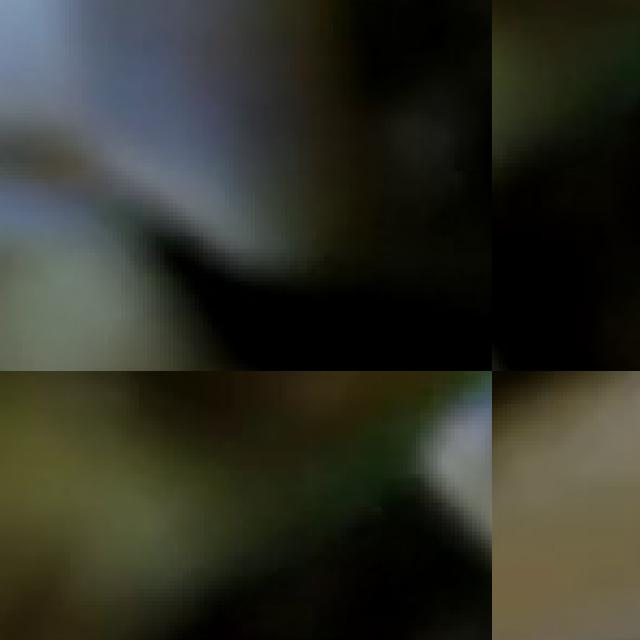fish: (0, 0, 492, 371), (492, 371, 640, 640)
